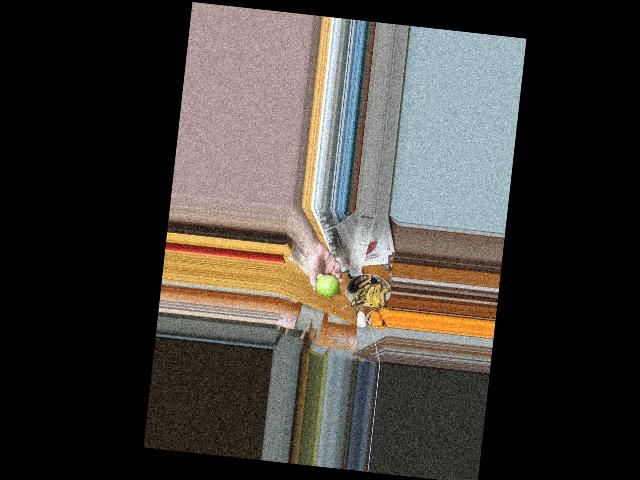apple: (314, 272, 340, 300)
